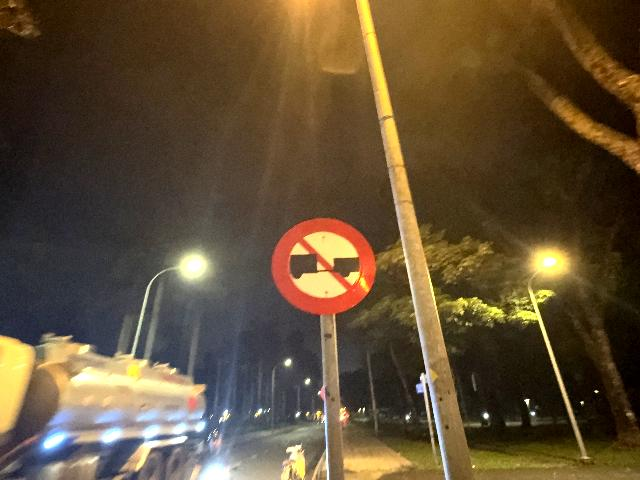cam-xe-somi-romooc: (273, 217, 376, 313)
